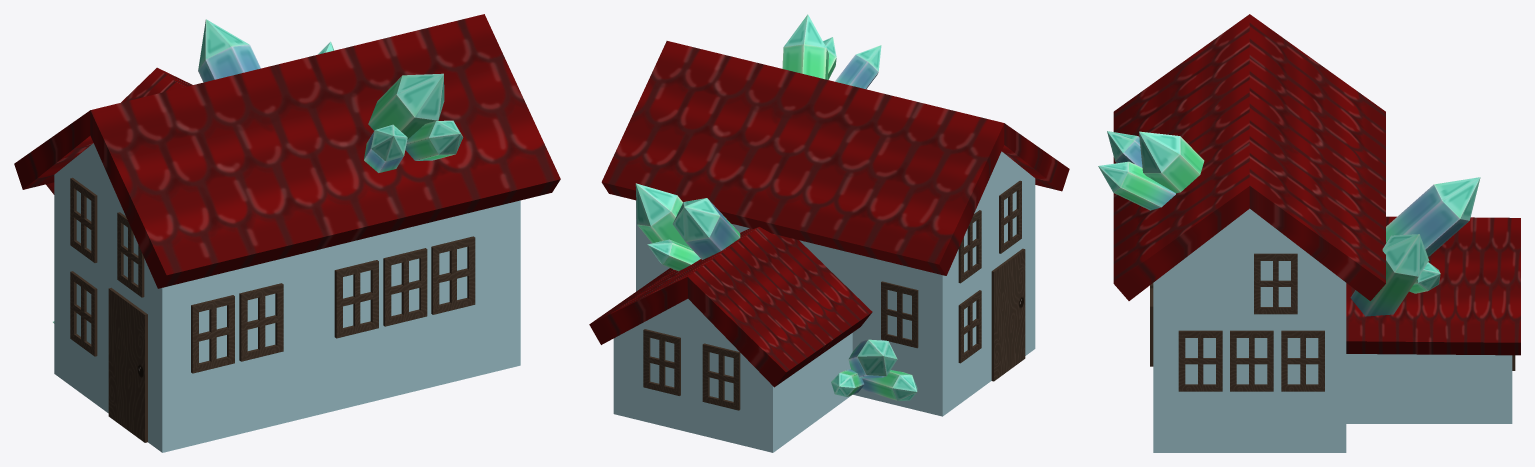
The model's file is house.FBX.
3 views of the same model, side by side, from view 1: azimuth 30°, elevation 25°; view 2: azimuth 150°, elevation 25°; view 3: azimuth 270°, elevation 25° (orthographic). The views are drawn at different scales.
Parts seen in each view (by area): view 1: Box001; view 2: Box001; view 3: Box001.
Boxes of the visible parts, x1,y1,x2,y2 form: Box001: (14, 14, 560, 452); Box001: (589, 14, 1069, 452); Box001: (1098, 14, 1520, 452).
Size of the model in its own units: 346 by 267 by 359.
